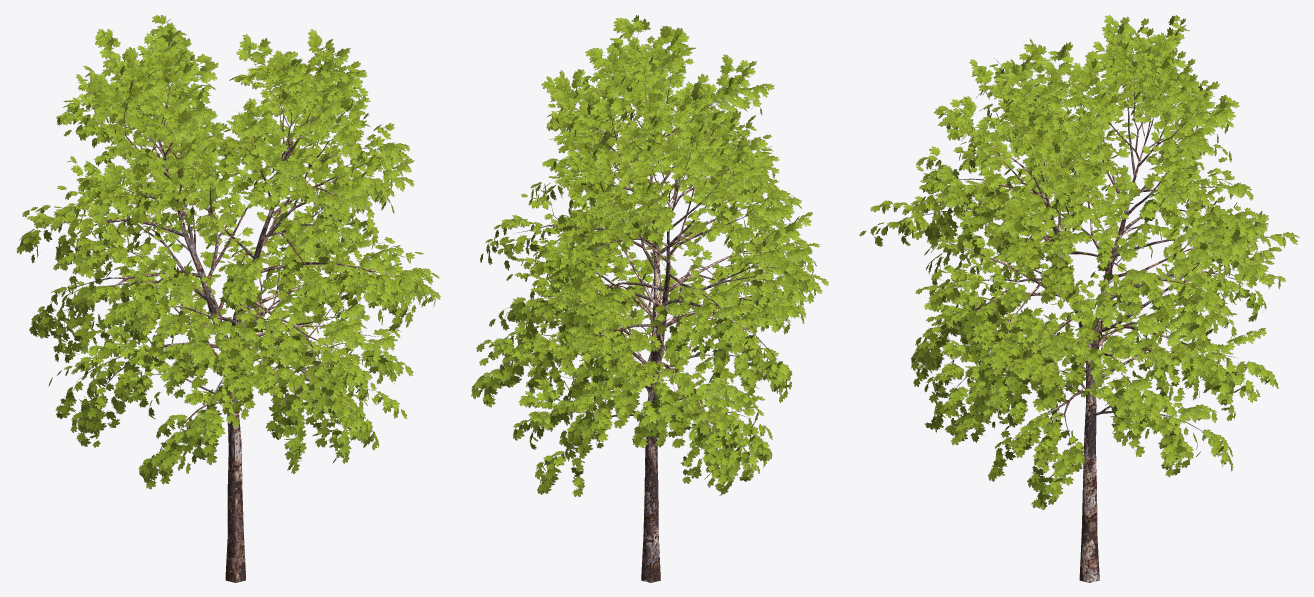
Rendered from highDraco.glb.
The picture shows the model from 3 angles, left to right: view 1: azimuth 30°, elevation 25°; view 2: azimuth 150°, elevation 25°; view 3: azimuth 270°, elevation 25°; orthographic projection. The views are drawn at different scales.
Size of the model in its own units: 10.73 by 16.9 by 12.43.
Materials: 2 (2 with a texture image).
